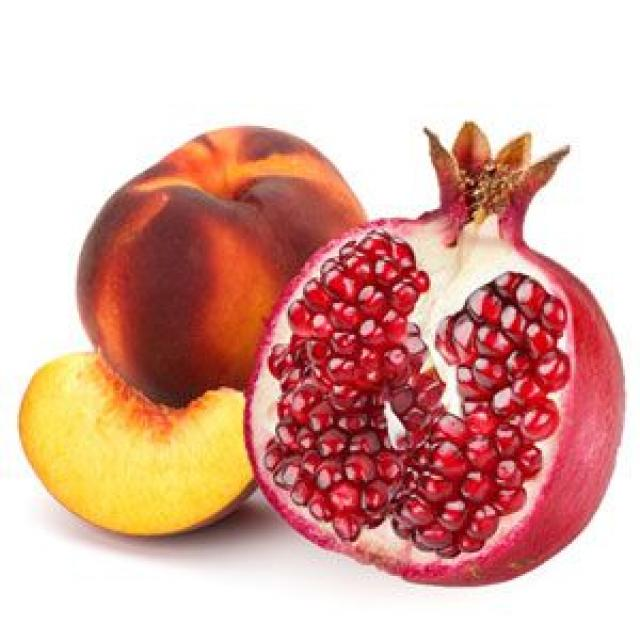peach: (72, 120, 367, 394)
pomegranate: (245, 119, 628, 586)
